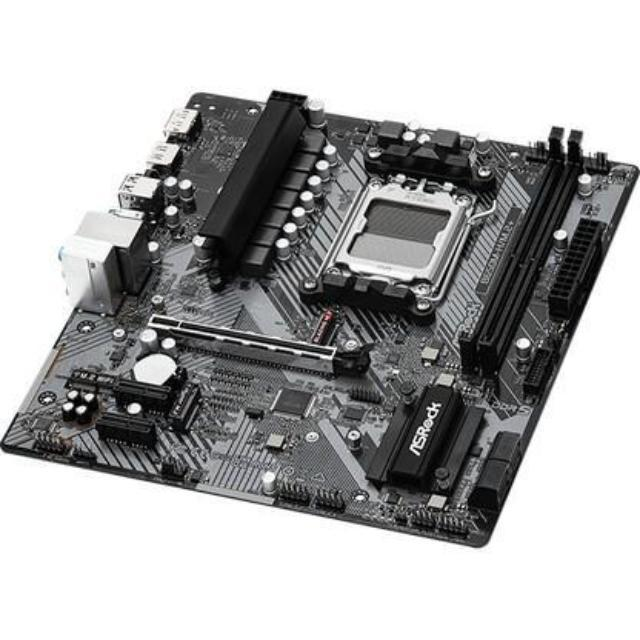Mainboard: (0, 74, 640, 566)
